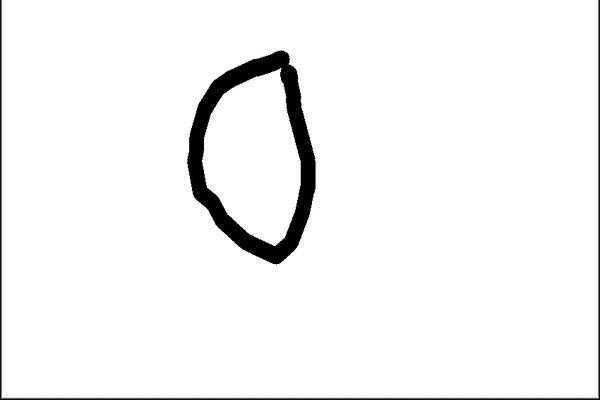O: (166, 39, 335, 276)
